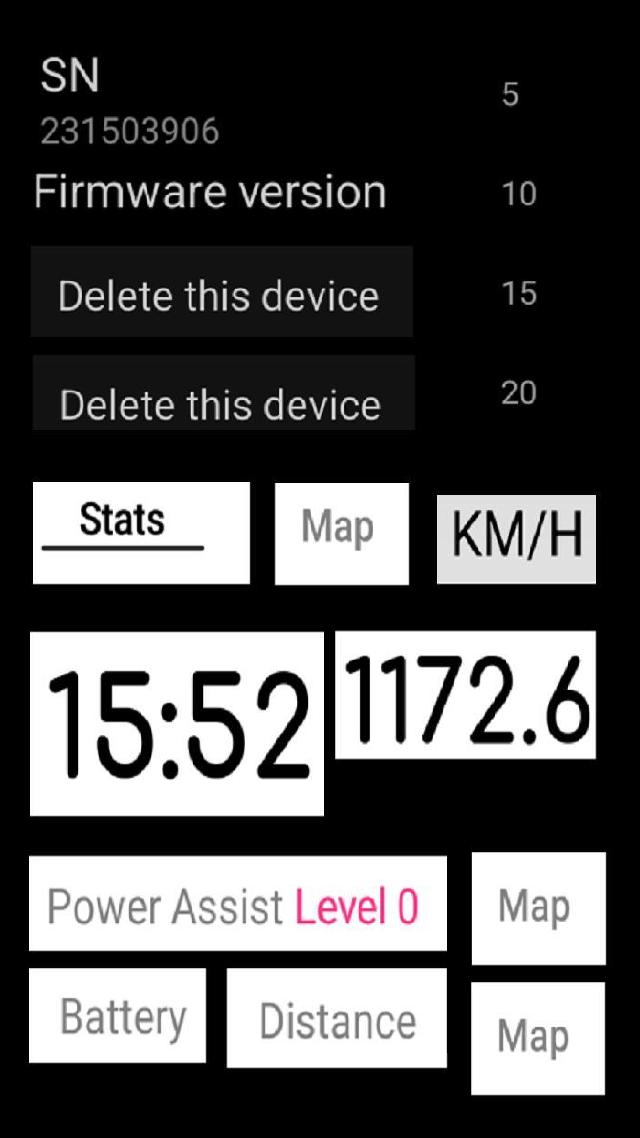Text: (41, 662, 316, 787), (341, 655, 594, 747), (44, 885, 424, 928), (29, 169, 392, 214), (49, 273, 382, 321), (57, 384, 387, 429), (255, 995, 422, 1049), (446, 503, 586, 563), (56, 989, 192, 1050), (36, 113, 223, 153), (494, 1010, 573, 1066), (299, 502, 375, 560), (489, 882, 577, 931), (79, 494, 170, 540), (39, 52, 106, 96), (496, 374, 544, 410), (501, 274, 544, 310), (500, 175, 540, 211), (498, 75, 527, 107)
